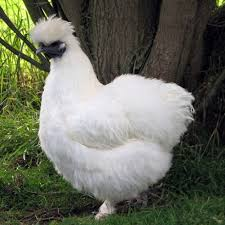Gà/Chicken: (10, 6, 212, 223)
